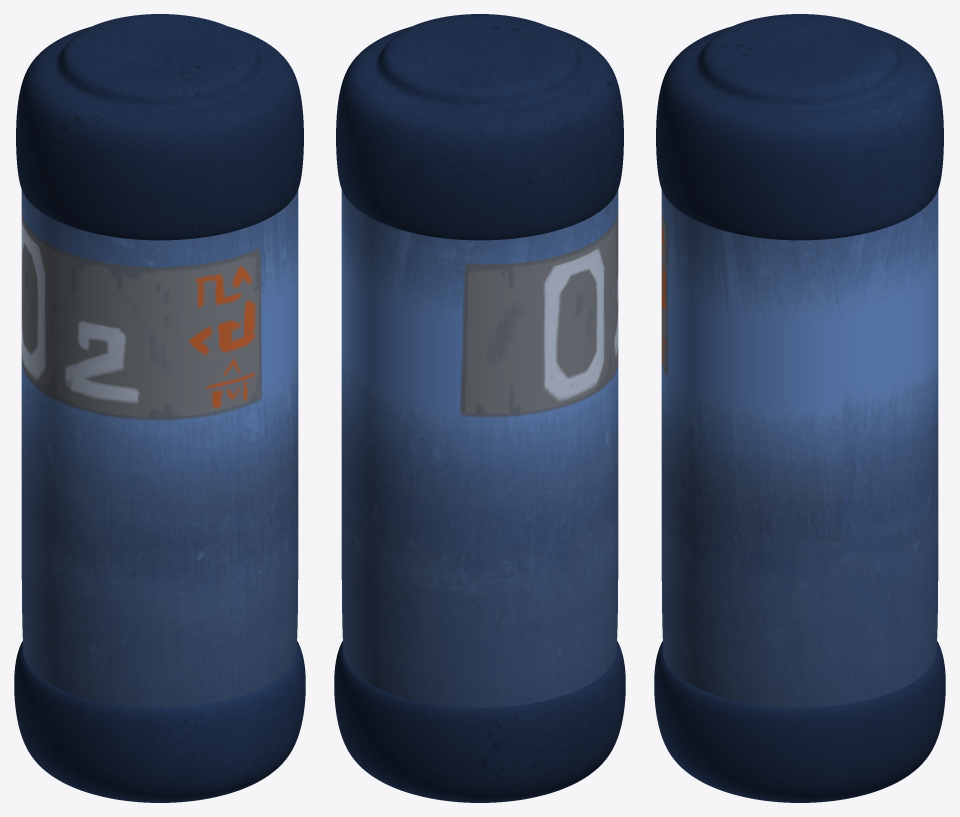
The model's file is Oxygen Tank.fbx.
The picture shows the model from 3 angles, left to right: view 1: azimuth 30°, elevation 25°; view 2: azimuth 150°, elevation 25°; view 3: azimuth 270°, elevation 25°; orthographic projection.
Visible parts, largest first — view 1: O2Tank; view 2: O2Tank; view 3: O2Tank.
Boxes of the visible parts, x1,y1,x2,y2 form: O2Tank: (14,14,305,802); O2Tank: (334,14,625,802); O2Tank: (654,14,945,802).
Bounding box in the file's own units: 0.6589 × 1.77 × 0.6589.
Materials: 1 (1 with a texture image).
